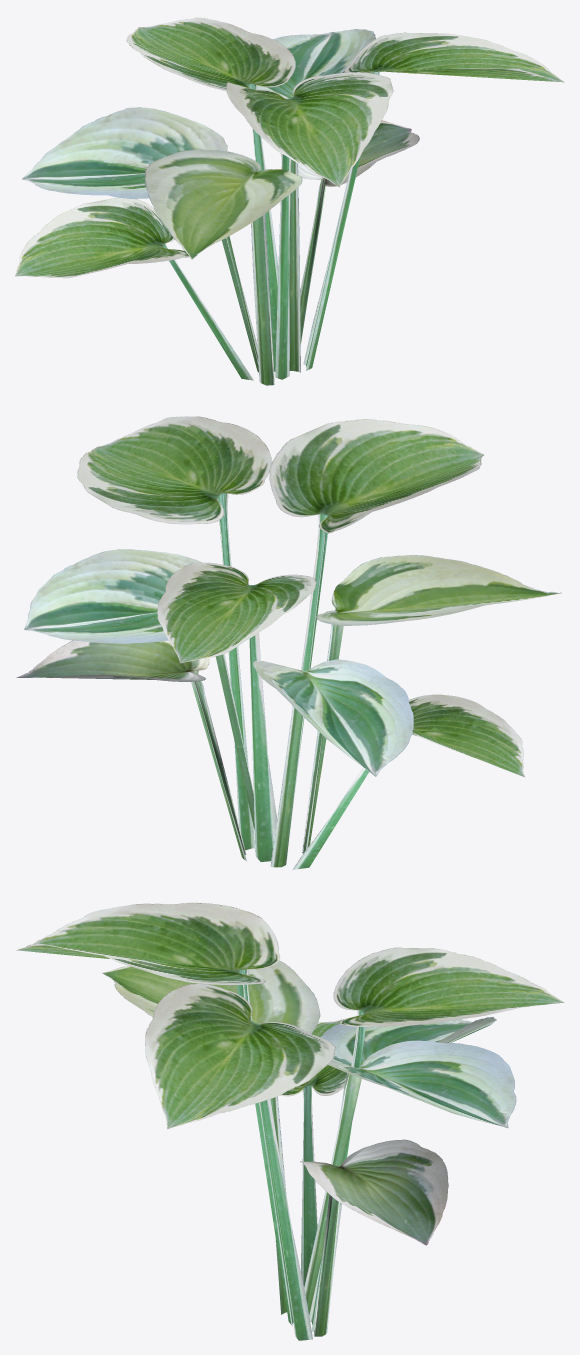
Rendered from plant_small_wg_00X.fbx.
3 renders of one model, top to bottom at view 1: azimuth 30°, elevation 25°; view 2: azimuth 150°, elevation 25°; view 3: azimuth 270°, elevation 25°, orthographic. The views are drawn at different scales.
Visible parts, largest first — view 1: plant_small_wg_00X; view 2: plant_small_wg_00X; view 3: plant_small_wg_00X.
Boxes of the visible parts, x1=… form: plant_small_wg_00X: x1=15, y1=17, x2=564, y2=385; plant_small_wg_00X: x1=16, y1=416, x2=561, y2=869; plant_small_wg_00X: x1=16, y1=902, x2=564, y2=1340.
Bounding box in the file's own units: 63.56 × 43 × 56.18.
Materials: 1 (1 with a texture image).
